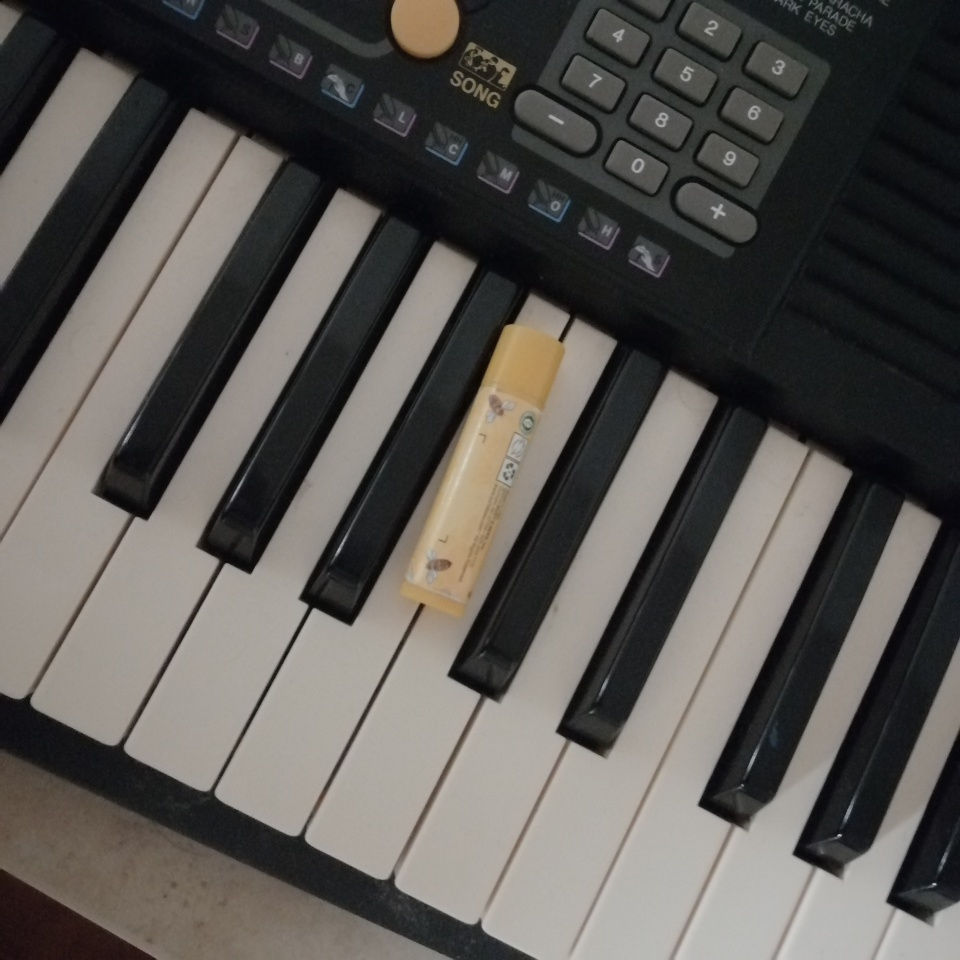chapstick: (399, 322, 566, 620)
